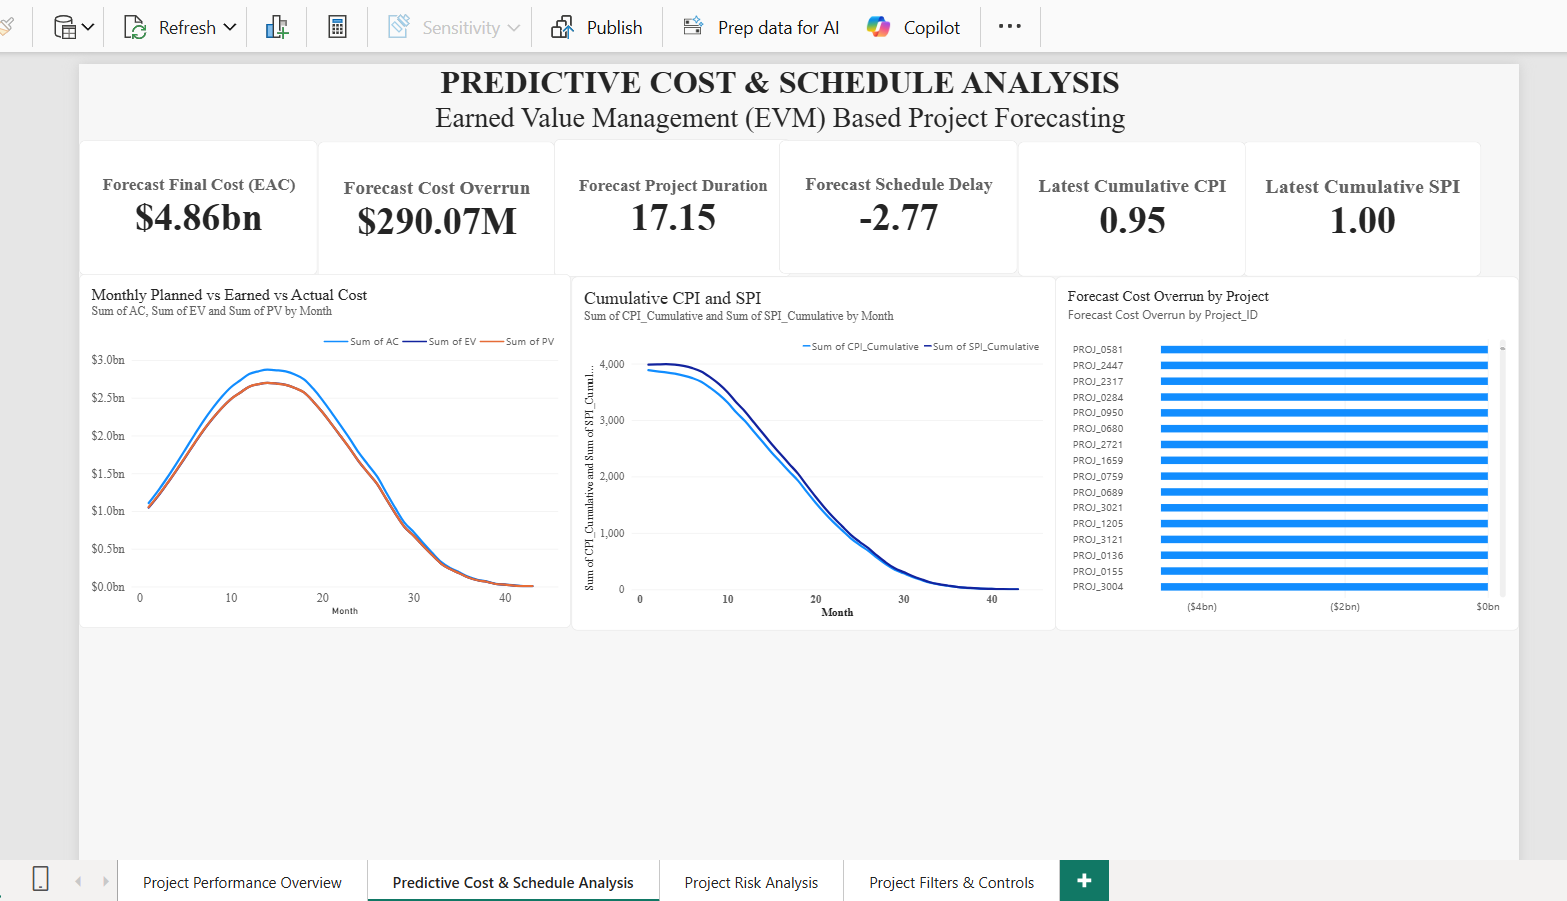

This screenshot's page, from the dashboard's own definition file:
{"tool":"powerbi","page":{"name":"Predictive Cost & Schedule Analysis","canvas":[1920,1080],"ordinal":1},"visuals":[{"type":"textbox","box":[0,0,1870,102],"z":3},{"type":"cardVisual","fields":{"Data":["simulated_project_ev_metrics_fi.Forecast Final Cost (EAC)"]},"box":[0,102,318,180],"z":4},{"type":"cardVisual","fields":{"Data":["simulated_project_ev_metrics_fi.Latest Cumulative SPI"]},"box":[1552,104,318,180],"z":5},{"type":"cardVisual","fields":{"Data":["simulated_project_ev_metrics_fi.Forecast Cost Overrun"]},"box":[318,104,316,184],"z":6},{"type":"cardVisual","fields":{"Data":["simulated_project_ev_metrics_fi.Latest Cumulative CPI"]},"box":[1252,104,304,180],"z":7},{"type":"cardVisual","fields":{"Data":["simulated_project_ev_metrics_fi.Forecast Project Duration"]},"box":[634,100,316,184],"z":8},{"type":"cardVisual","fields":{"Data":["simulated_project_ev_metrics_fi.Forecast Schedule Delay"]},"box":[934,102,318,178],"z":9},{"type":"lineChart","title":"Monthly Planned vs Earned vs Actual Cost","fields":{"Category":["simulated_project_ev_metrics_fi.Month"],"Y":["Sum(simulated_project_ev_metrics_fi.AC)","Sum(simulated_project_ev_metrics_fi.EV)","Sum(simulated_project_ev_metrics_fi.PV)"]},"box":[0,280,656,472],"z":10},{"type":"lineChart","title":"Cumulative CPI and SPI","fields":{"Category":["simulated_project_ev_metrics_fi.Month"],"Y":["Avg(simulated_project_ev_metrics_fi.CPI_Cumulative)","Avg(simulated_project_ev_metrics_fi.SPI_Cumulative)"]},"box":[656,284,646,472],"z":11},{"type":"clusteredBarChart","title":"Forecast Cost Overrun by Project","fields":{"Category":["simulated_project_ev_metrics_fi.Project_ID"],"Y":["simulated_project_ev_metrics_fi.Forecast Cost Overrun"]},"box":[1302,284,618,472],"z":12}]}

Visuals, with their boxes on the page's 1920x1080 design canvas (x1, y1, x2, y2). These are canvas units, not pixel positions in the 1567x901 screenshot, which may show the page scaled, cropped or inside an application window:
textbox: {"left": 0, "top": 0, "right": 1870, "bottom": 102}
cardVisual - simulated_project_ev_metrics_fi.Forecast Final Cost (EAC): {"left": 0, "top": 102, "right": 318, "bottom": 282}
cardVisual - simulated_project_ev_metrics_fi.Latest Cumulative SPI: {"left": 1552, "top": 104, "right": 1870, "bottom": 284}
cardVisual - simulated_project_ev_metrics_fi.Forecast Cost Overrun: {"left": 318, "top": 104, "right": 634, "bottom": 288}
cardVisual - simulated_project_ev_metrics_fi.Latest Cumulative CPI: {"left": 1252, "top": 104, "right": 1556, "bottom": 284}
cardVisual - simulated_project_ev_metrics_fi.Forecast Project Duration: {"left": 634, "top": 100, "right": 950, "bottom": 284}
cardVisual - simulated_project_ev_metrics_fi.Forecast Schedule Delay: {"left": 934, "top": 102, "right": 1252, "bottom": 280}
"Monthly Planned vs Earned vs Actual Cost" lineChart: {"left": 0, "top": 280, "right": 656, "bottom": 752}
"Cumulative CPI and SPI" lineChart: {"left": 656, "top": 284, "right": 1302, "bottom": 756}
"Forecast Cost Overrun by Project" clusteredBarChart: {"left": 1302, "top": 284, "right": 1920, "bottom": 756}
